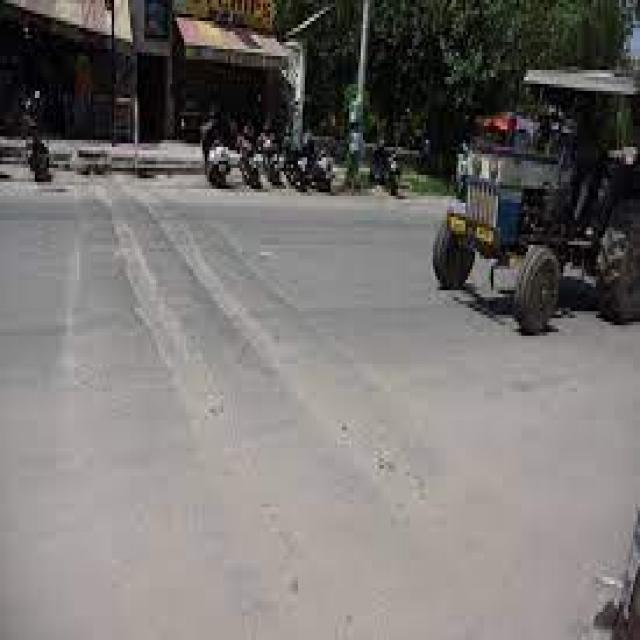speedbreaker: (68, 177, 424, 575)
